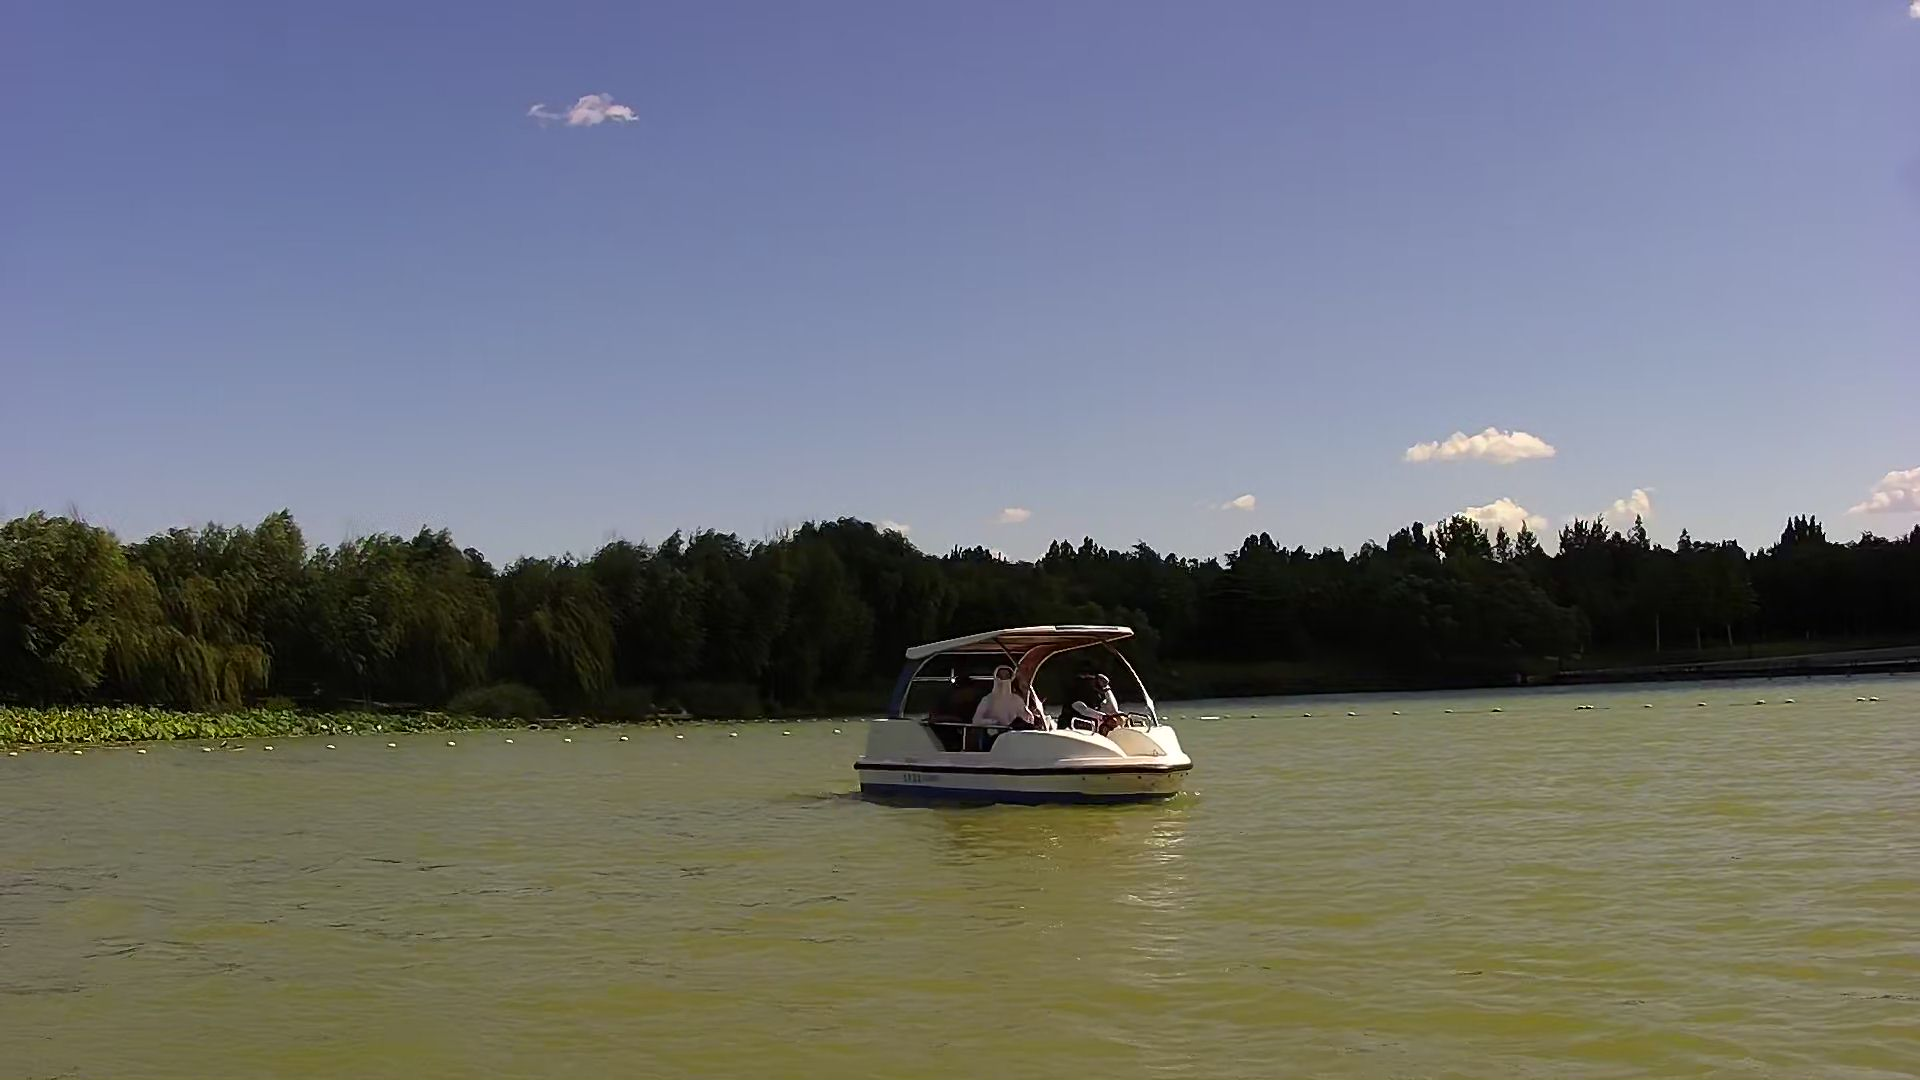boat: (853, 616, 1207, 820)
